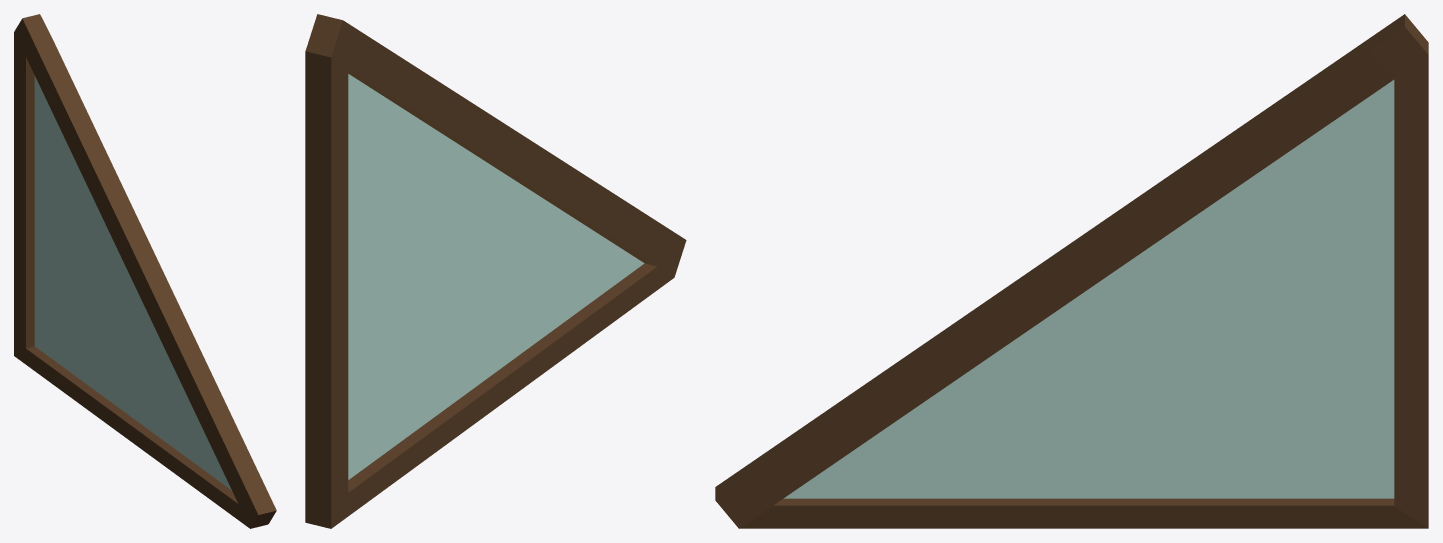
Rendered from glasswindow_triangle.fbx.
The picture shows the model from 3 angles, left to right: view 1: azimuth 30°, elevation 25°; view 2: azimuth 150°, elevation 25°; view 3: azimuth 270°, elevation 25°; orthographic projection. The views are drawn at different scales.
Parts seen in each view (by area): view 1: Cube.005, Plane.001; view 2: Plane.001, Cube.005; view 3: Plane.001, Cube.005.
Boxes of the visible parts, x1,y1,x2,y2 form: Cube.005: [14, 14, 276, 528]; Plane.001: [34, 75, 231, 490]; Plane.001: [348, 74, 644, 479]; Cube.005: [305, 14, 686, 528]; Plane.001: [784, 80, 1394, 498]; Cube.005: [715, 14, 1428, 528].
Bounding box in the file's own units: 55.79 × 953 × 1228.
